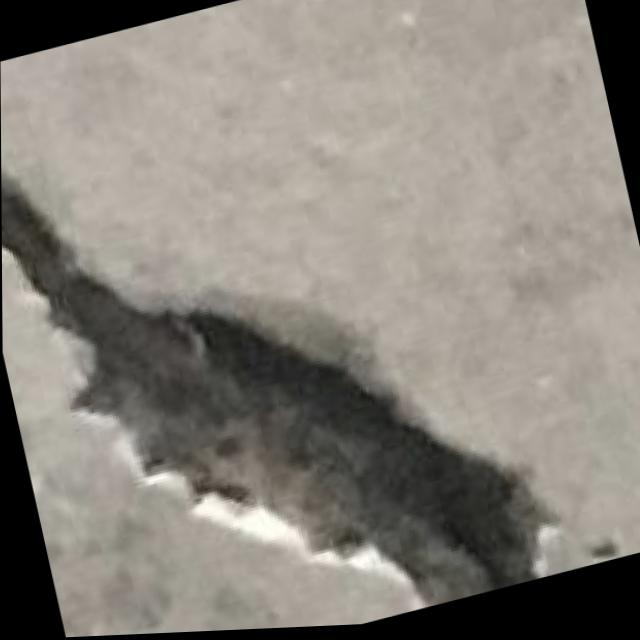Crack: (0, 34, 561, 640)
